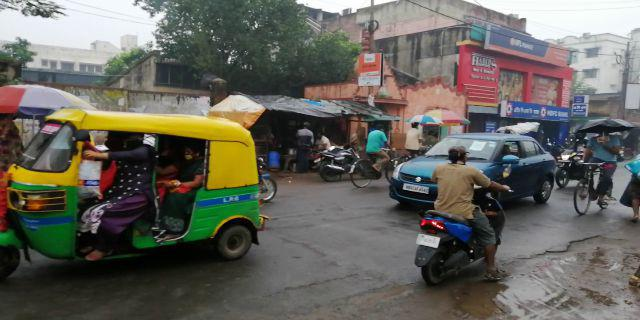Autorickshaw: (20, 109, 267, 268)
Car: (387, 128, 558, 213)
Motorbike: (410, 150, 509, 279)
